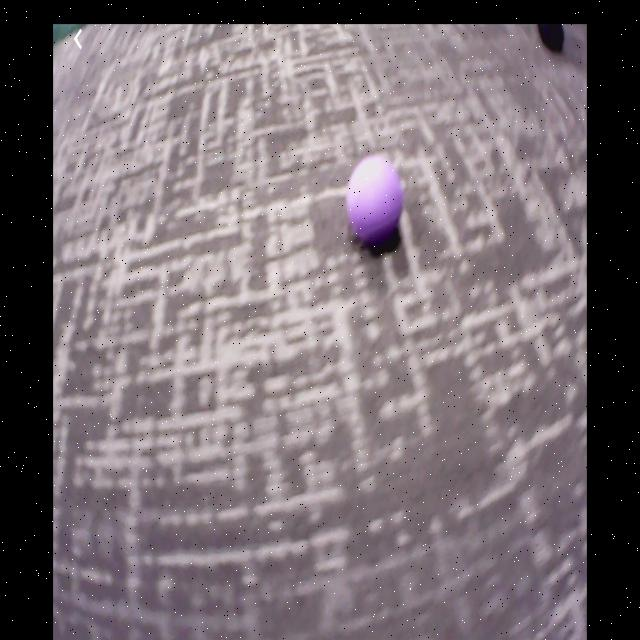ball: (348, 156, 405, 239)
